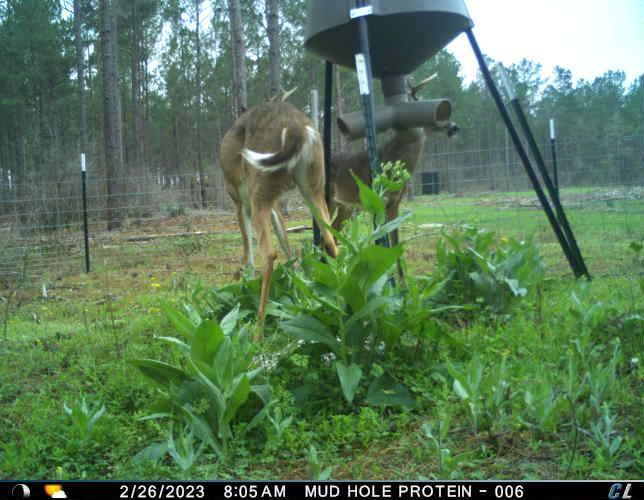Deer: (218, 81, 339, 344), (317, 71, 462, 286)
